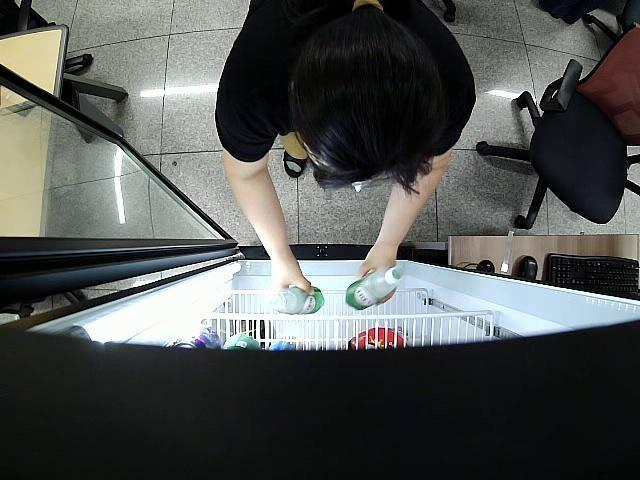18_trevi: (345, 266, 402, 310), (270, 285, 325, 316)
